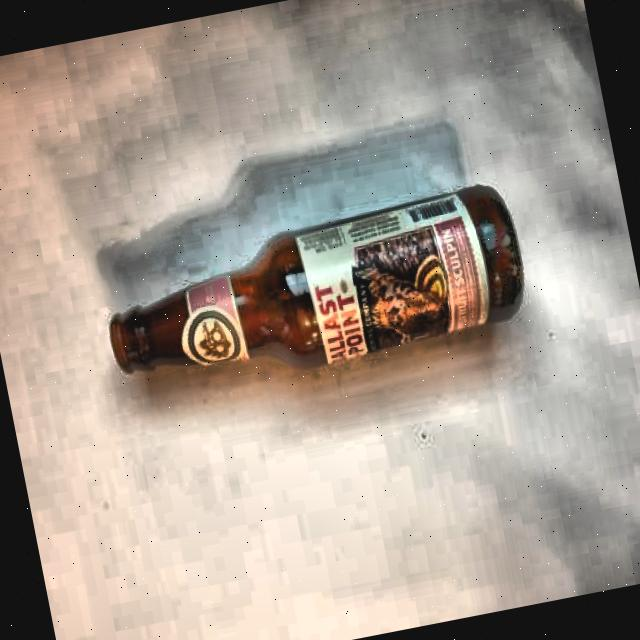glass: (92, 180, 537, 404)
